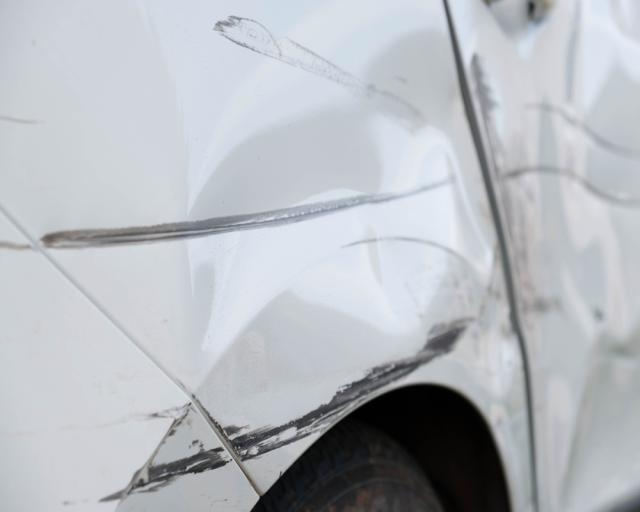dent: (185, 31, 487, 422)
scratch: (177, 311, 481, 464), (93, 399, 242, 510), (211, 14, 369, 99), (36, 222, 191, 250)
